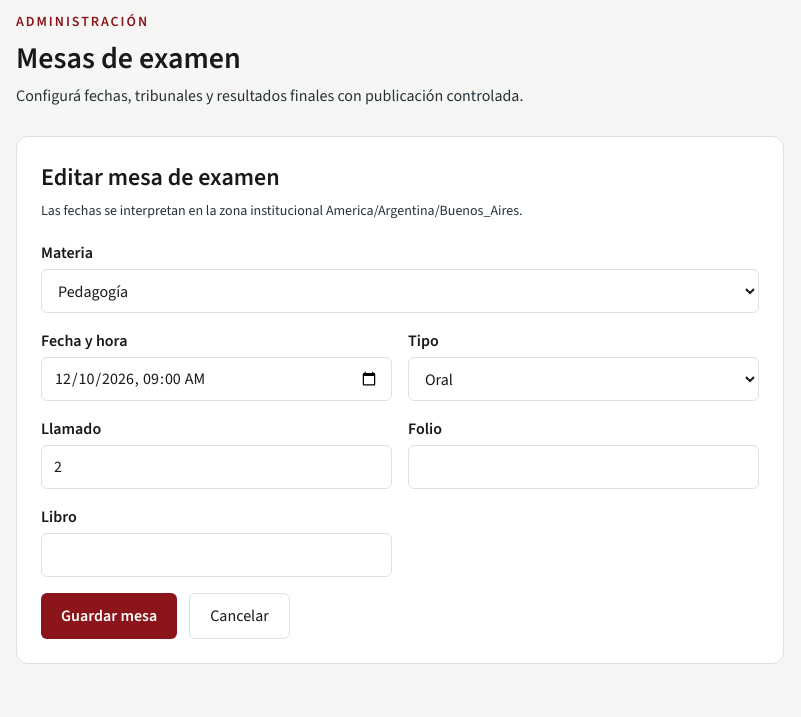
AdminExamsView › refreshes the configuration version after a conflict without replacing the form draft
Step 1. Replace the text in the field labelled "Fecha y hora" with "2026-12-11T09:30" → [216, 379], box top-left (41, 357), bottom-right (392, 401)
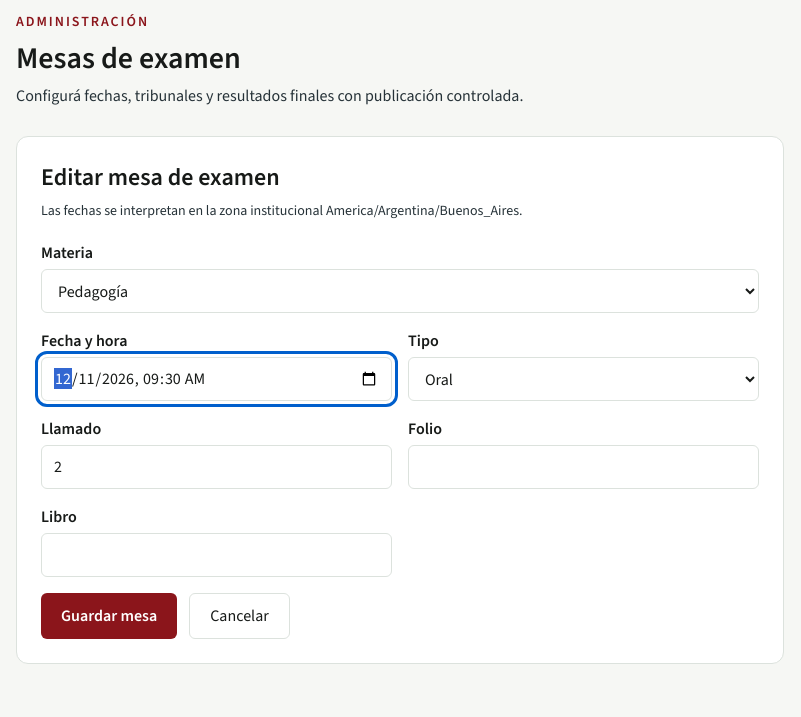
Step 2. Click the button "Guardar mesa" → [109, 616], box top-left (41, 593), bottom-right (177, 639)
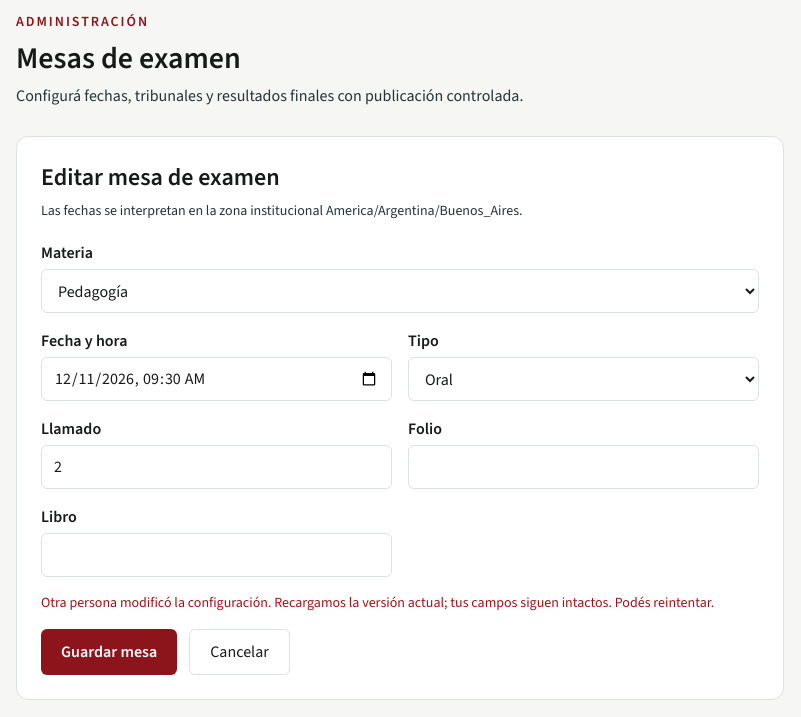
Now the text "Otra persona modificó la configuración" is shown, box top-left (41, 593), bottom-right (714, 612)
